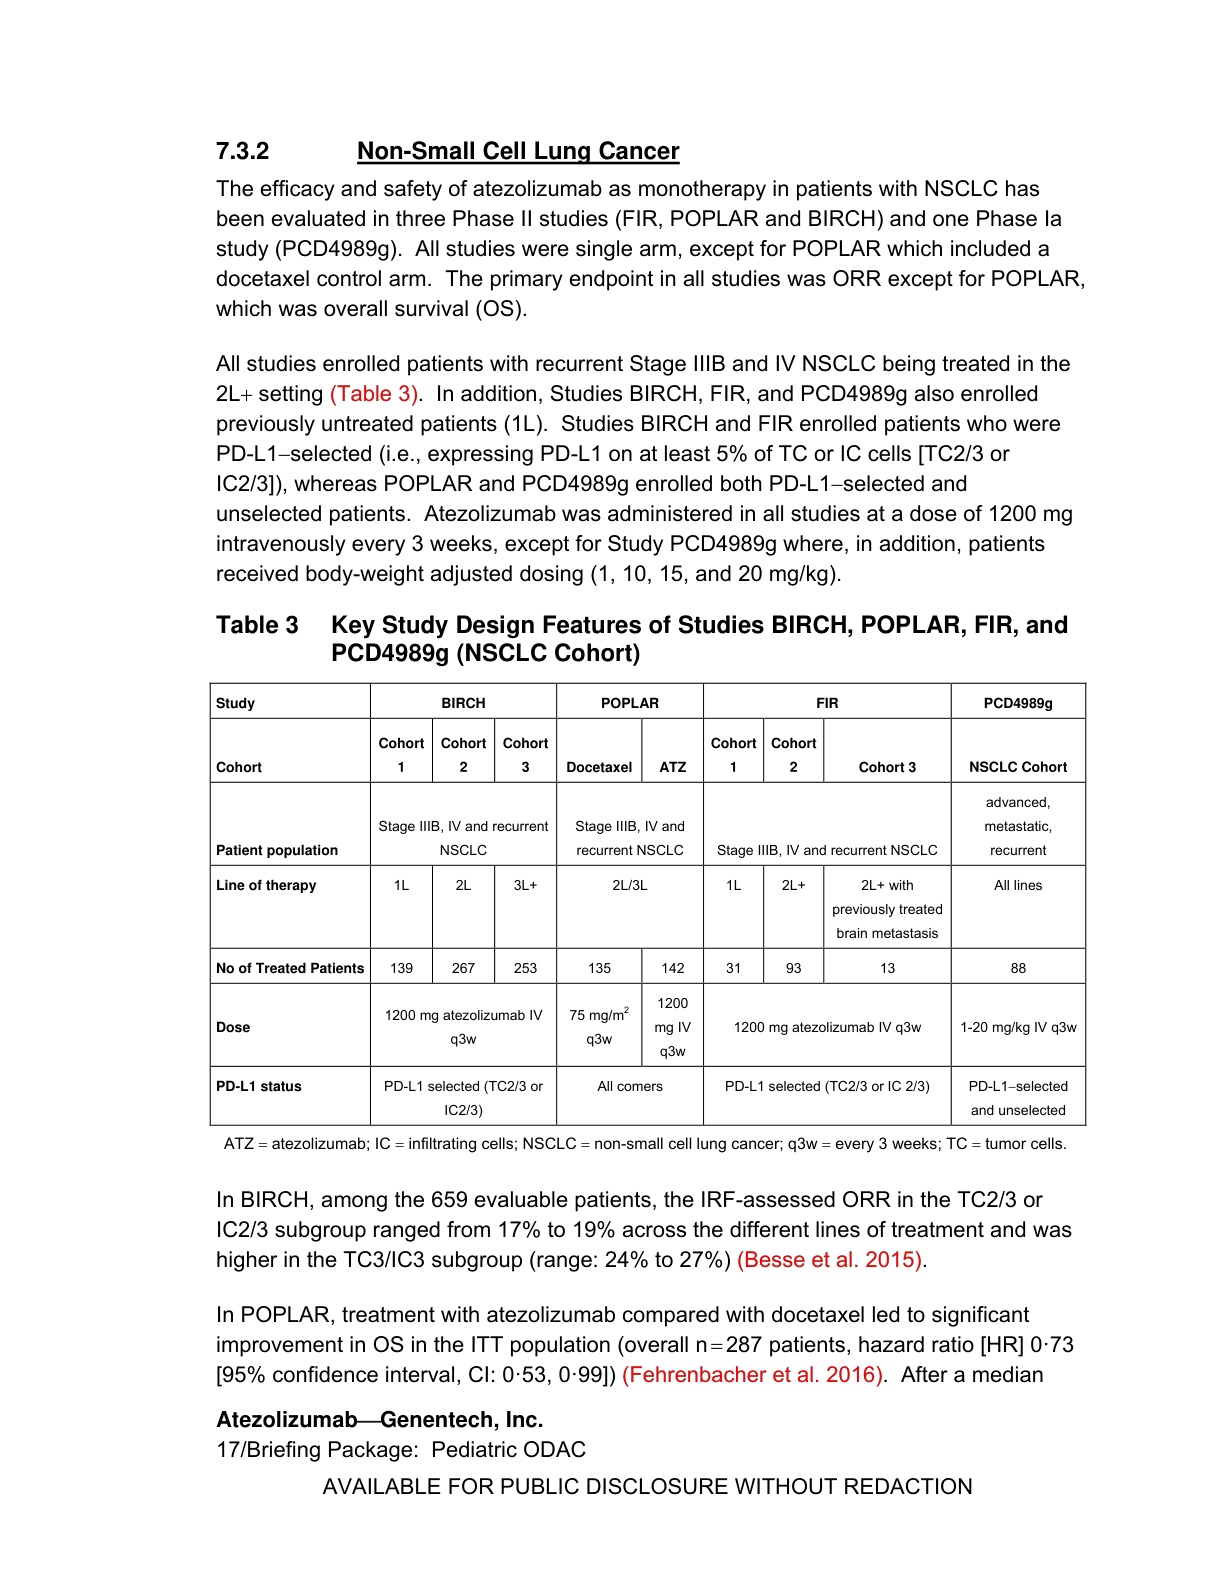merged_cells: (210, 681, 1086, 1126)
